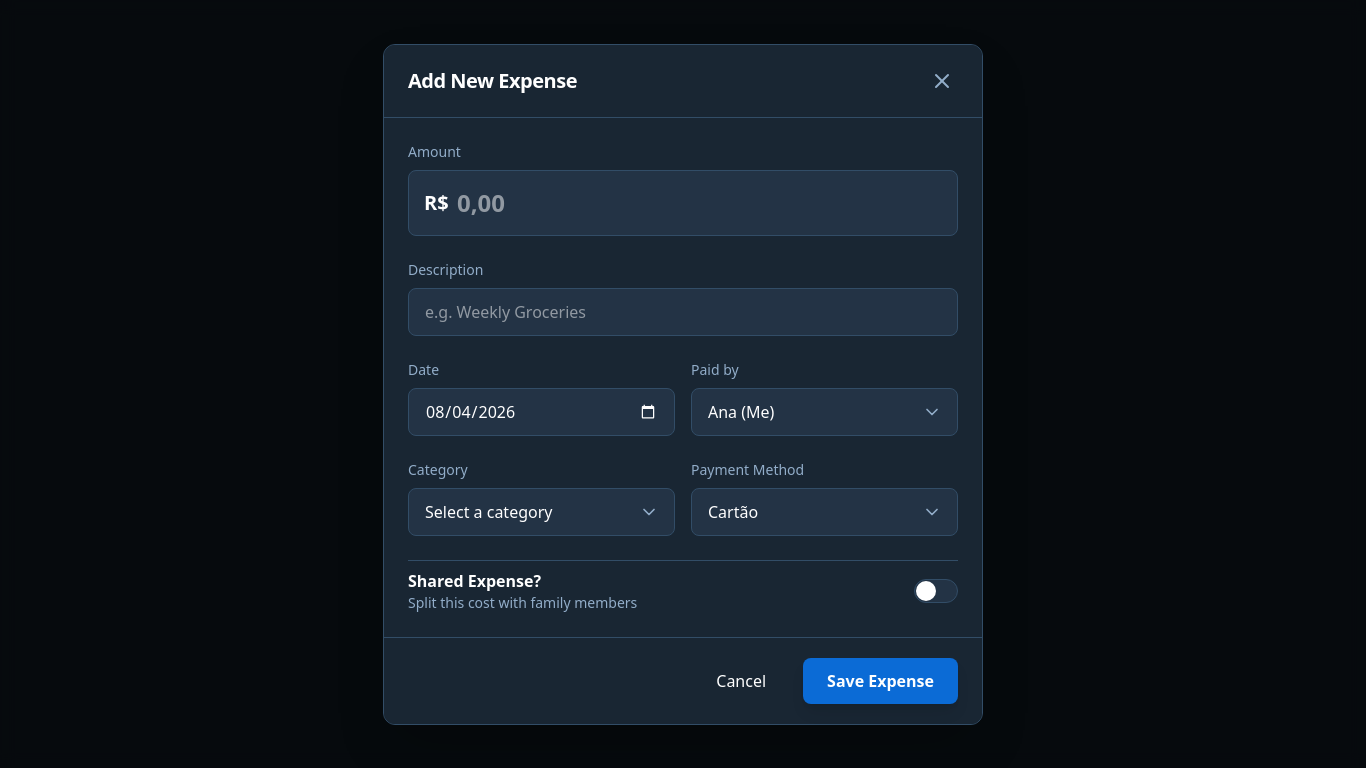
Scenario: ExpenseModal › valida campos obrigatórios e não envia
The width and height of the screenshot is (1366, 768).
Click the button "Save Expense": (881, 680) [803,658,958,704]
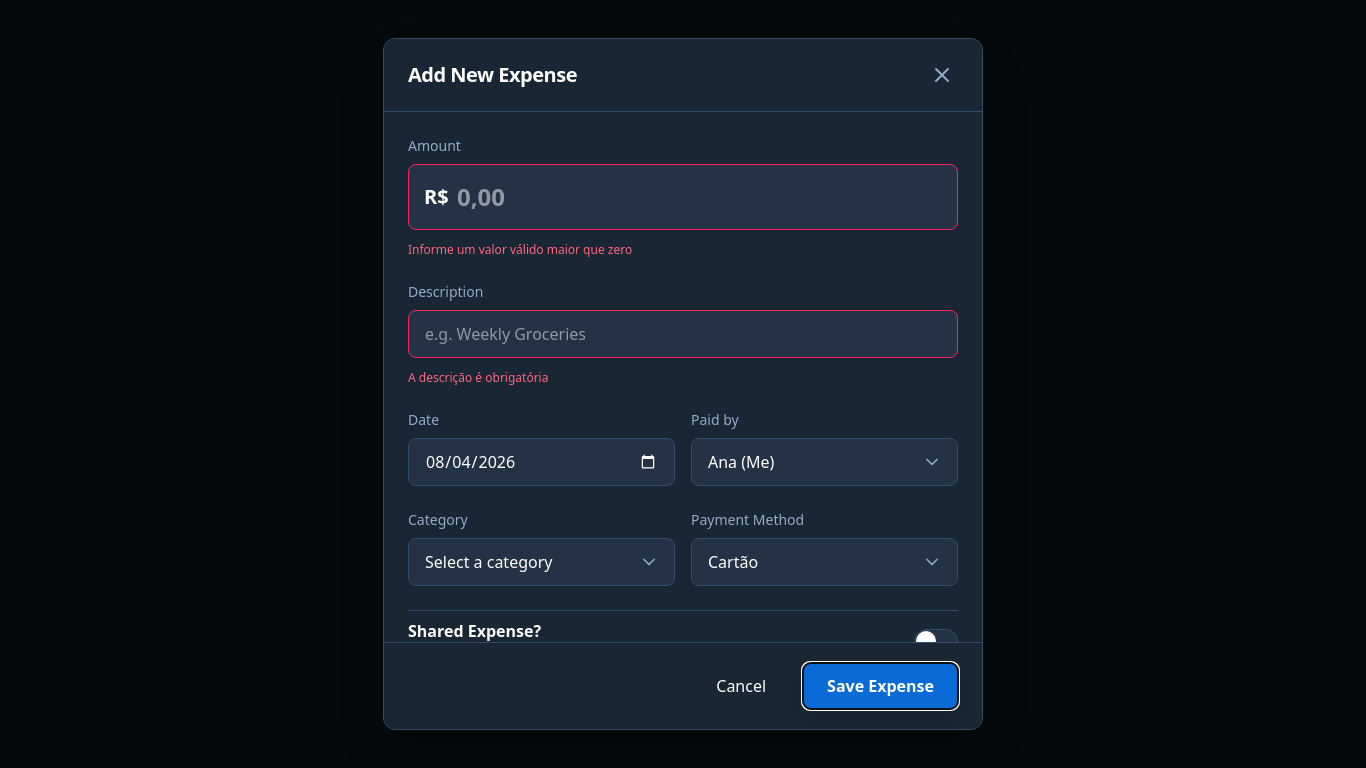
Now the text "A descrição é obrigatória" is shown, box [408,369,548,386]
Now the text "Informe um valor válido maior que zero" is shown, box [408,241,632,258]
